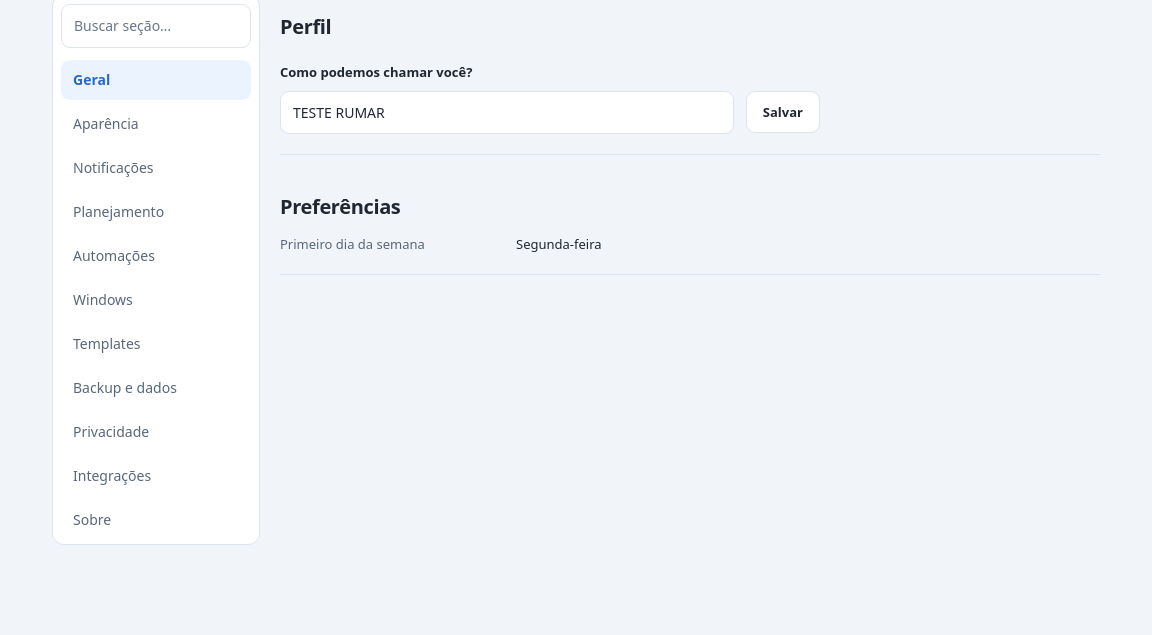
Scenario: validates restore before enabling its explicit destructive confirmation
The width and height of the screenshot is (1152, 635).
Step 1. Click the button "Backup e dados" → x=156, y=388, box x1=61 y1=368 x2=251 y2=408
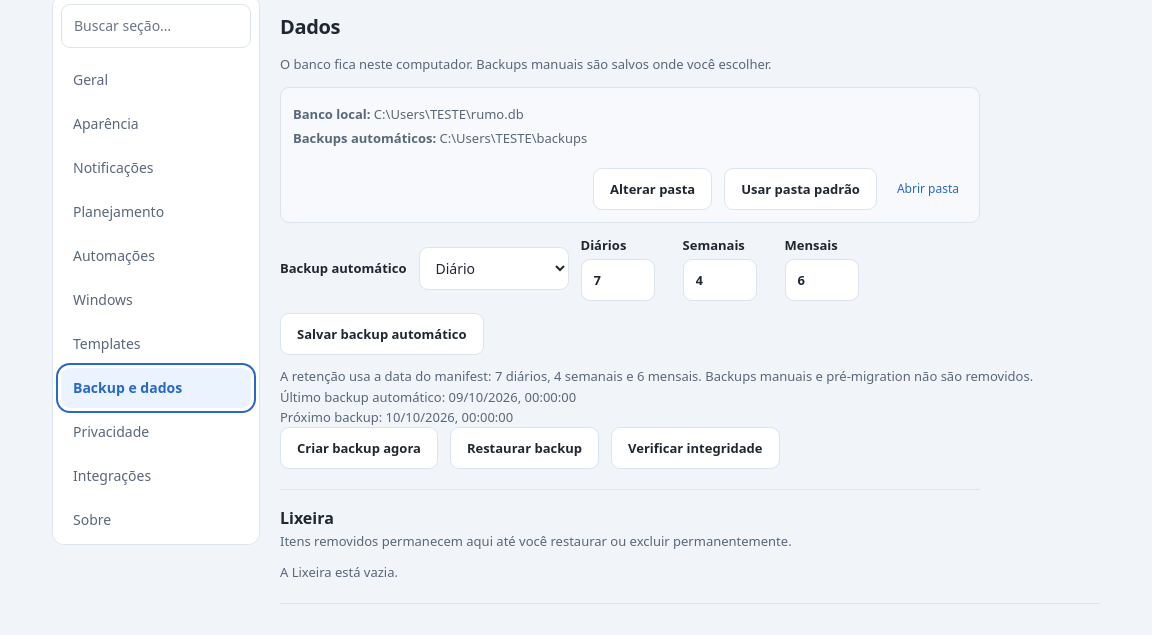
Step 2. Click the button "Restaurar backup" → x=524, y=448, box x1=450 y1=427 x2=599 y2=469
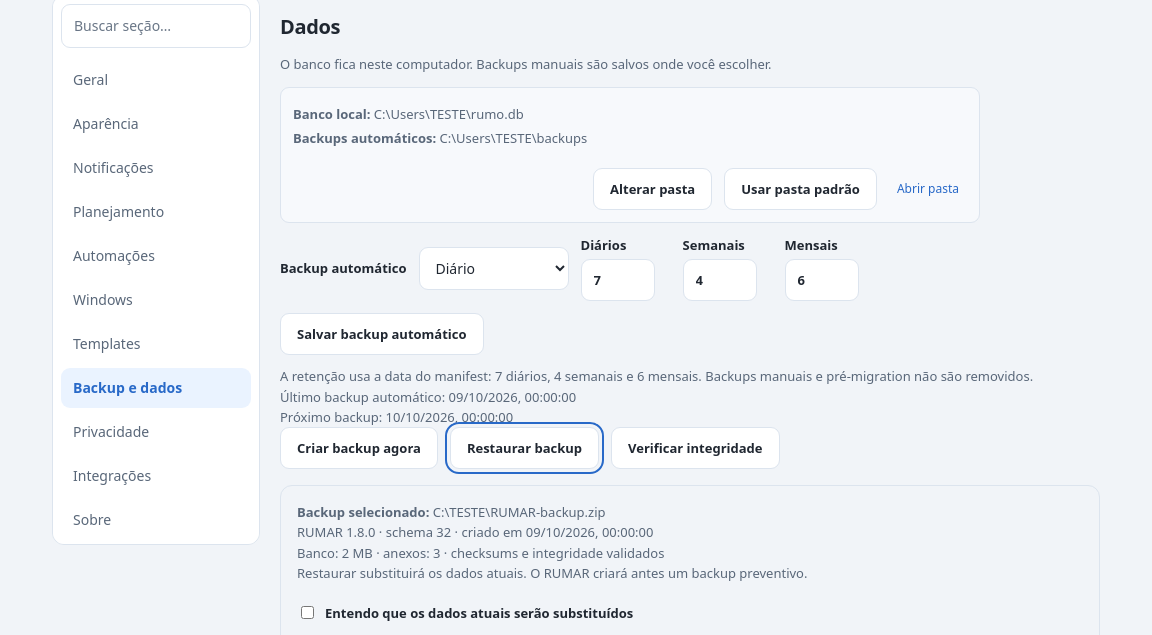
Expected: the text "Banco: 2 MB · anexos: 3 · checksums e integridade validados" is shown, x1=297 y1=544 x2=664 y2=562
Step 3. Click the checkbox labelled "Entendo que os dados atuais serão substituídos" → x=308, y=613, box x1=301 y1=606 x2=314 y2=619
(page scrolled)
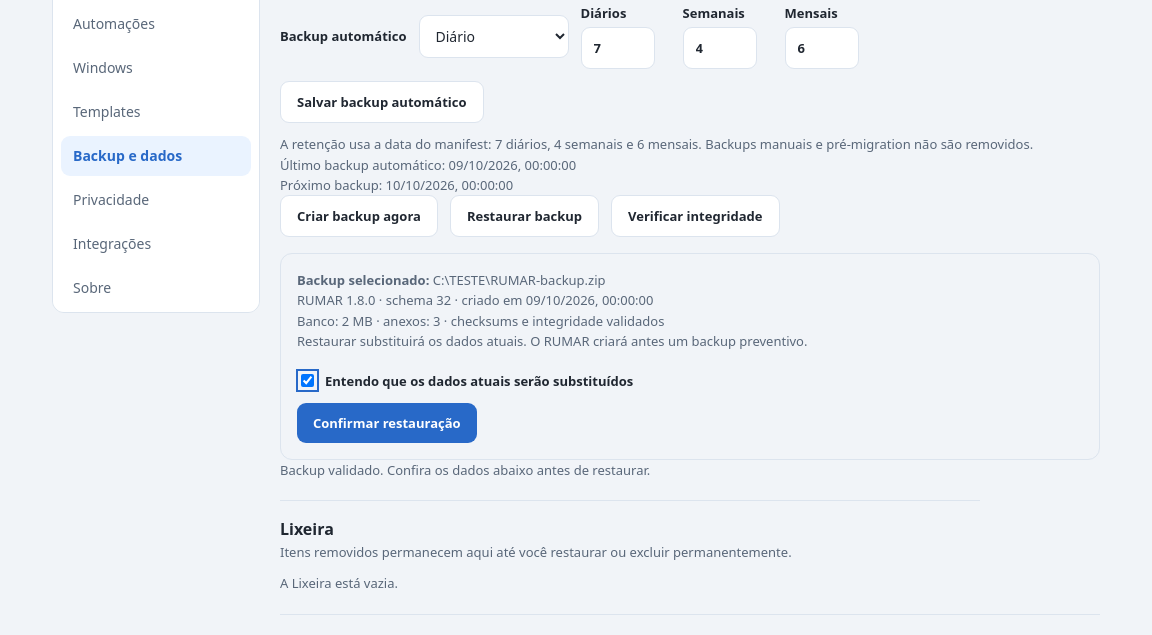
Expected: the button "Confirmar restauração" is enabled, x1=297 y1=403 x2=477 y2=443
